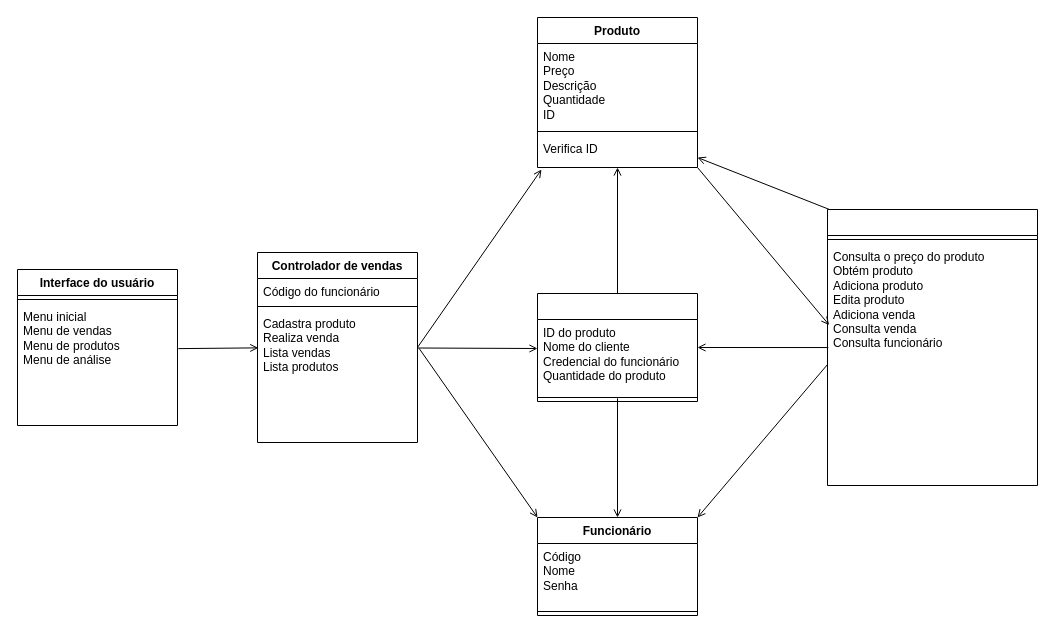
Image size: 1055x633. Some labels were removed from this diagram. The shapes that lost their labels are listed below. From the top down, each one's box as (x1, y1, x2, y2) in pixels, then its label:
(536, 292, 698, 402): Venda
(826, 208, 1038, 486): Banco de Dados
